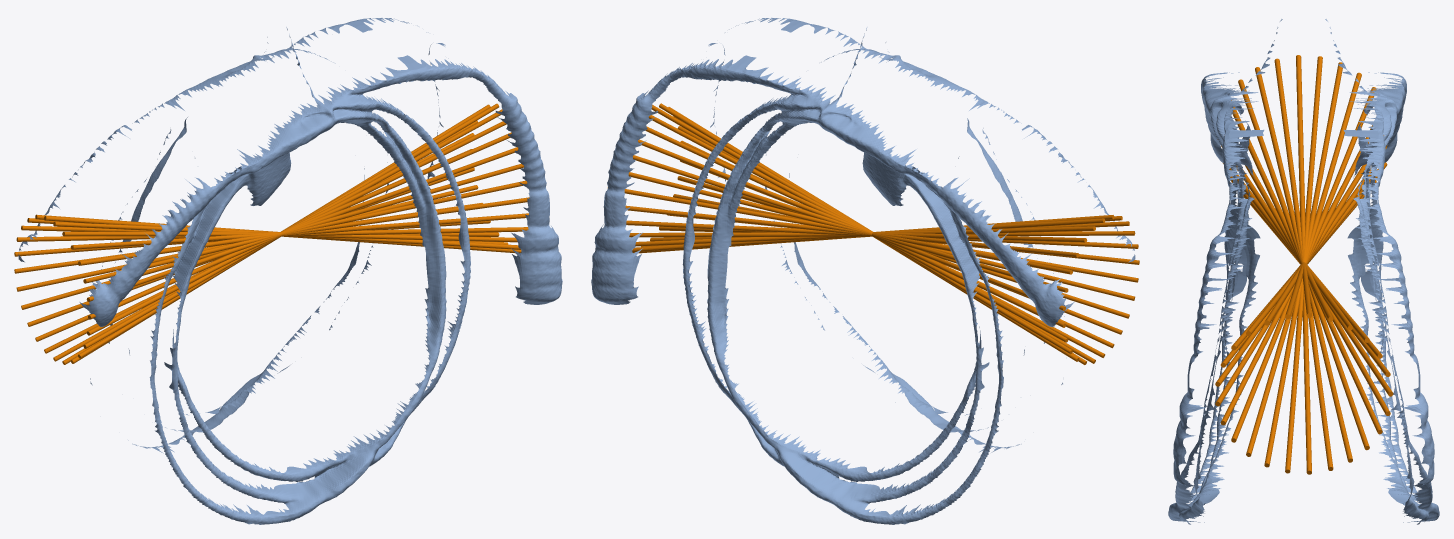
Rendered from A20023524_6145-37-528-7083_DigitalTwin.glb.
3 renders of one model, left to right at view 1: azimuth 30°, elevation 25°; view 2: azimuth 150°, elevation 25°; view 3: azimuth 270°, elevation 25°, orthographic. The views are drawn at different scales.
Visible parts, largest first — view 1: world; view 2: world; view 3: world.
Part boxes in pixels (x1=…): world: x1=14, y1=18, x2=562, y2=524; world: x1=591, y1=17, x2=1139, y2=524; world: x1=1168, y1=19, x2=1439, y2=524.
Size of the model in its own units: 466 by 439 by 206.
